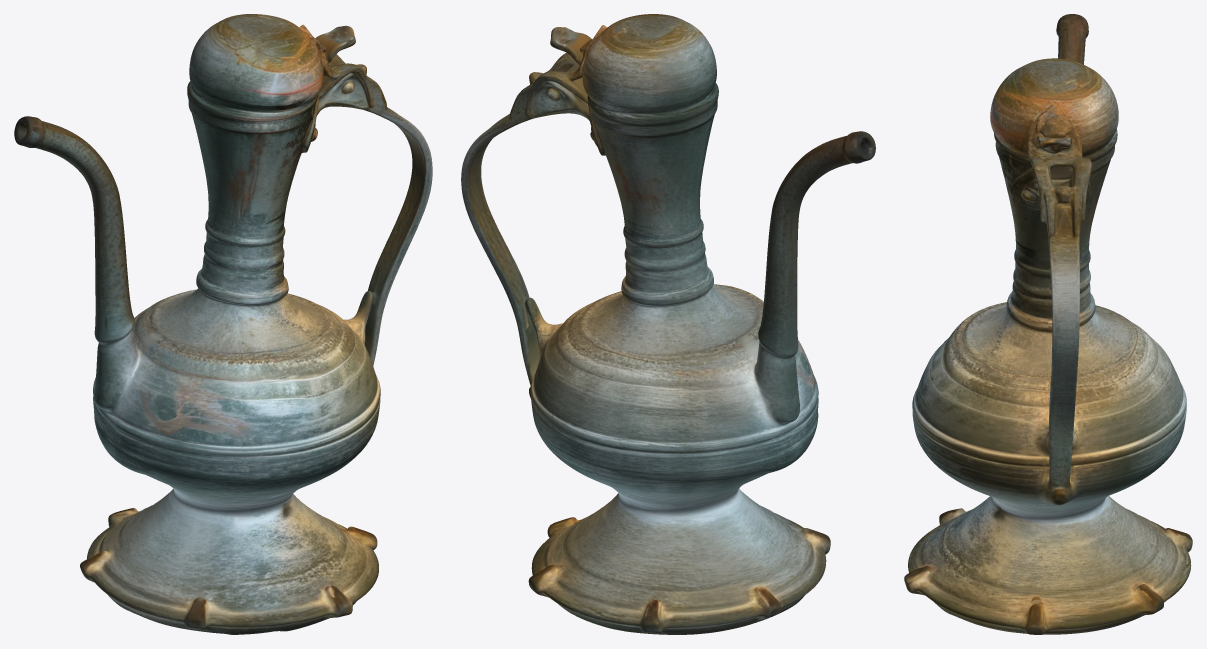
File: 026-metallicheskiy-kuvshin-kumgan.glb
3 views of the same model, side by side, from view 1: azimuth 30°, elevation 25°; view 2: azimuth 150°, elevation 25°; view 3: azimuth 270°, elevation 25° (orthographic). The views are drawn at different scales.
Visible parts, largest first — view 1: node_0; view 2: node_0; view 3: node_0.
Part boxes in pixels (x1,y1,x2,y2): node_0: (14,14,432,634); node_0: (461,14,875,634); node_0: (904,14,1192,634).
Bounding box in the file's own units: 0.8347 × 1.08 × 0.54.
Materials: 1 (1 with a texture image).
